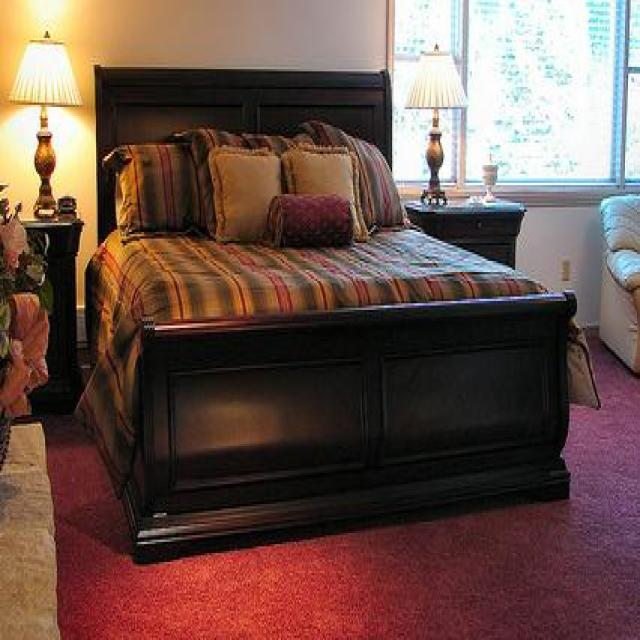bed: (75, 63, 582, 564)
